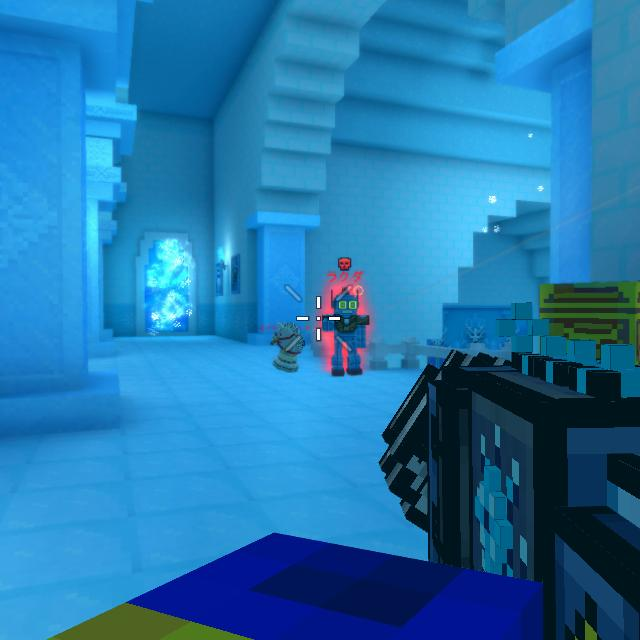Enemy: (321, 291, 370, 379)
